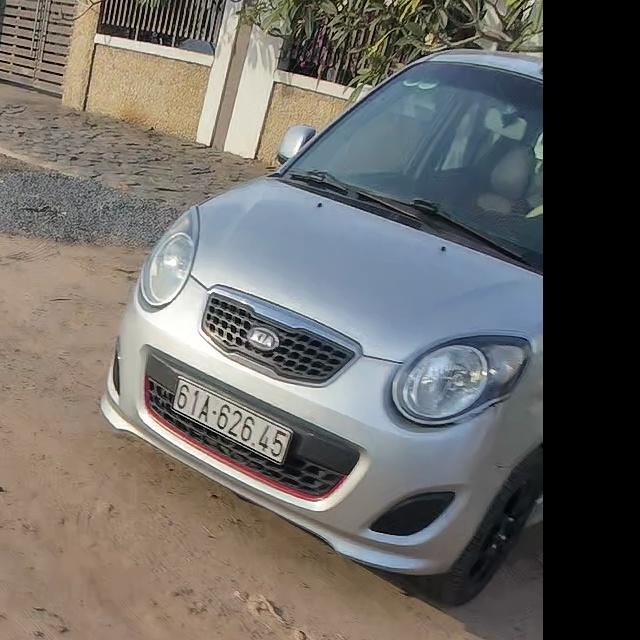car: (97, 38, 545, 613)
plate: (165, 372, 298, 474)
